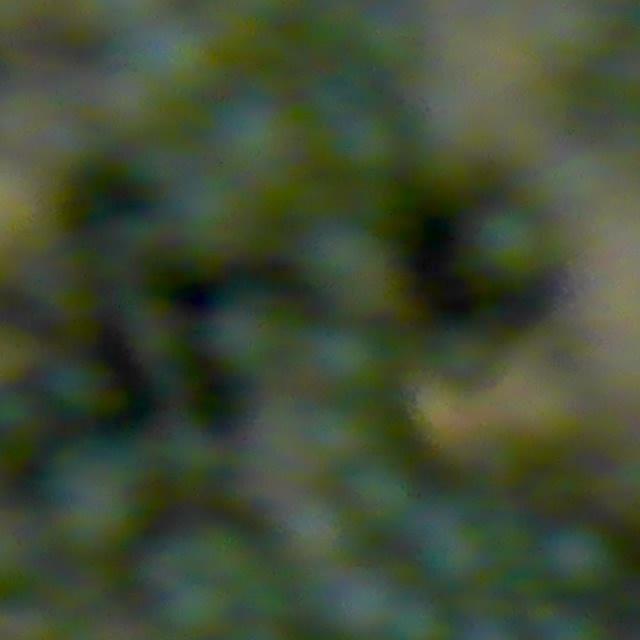SeaGrape: (302, 220, 398, 315), (209, 94, 295, 176), (316, 565, 399, 640), (305, 323, 384, 399), (541, 523, 619, 596), (474, 206, 547, 282), (166, 577, 232, 640), (43, 353, 110, 415), (384, 594, 451, 640)
